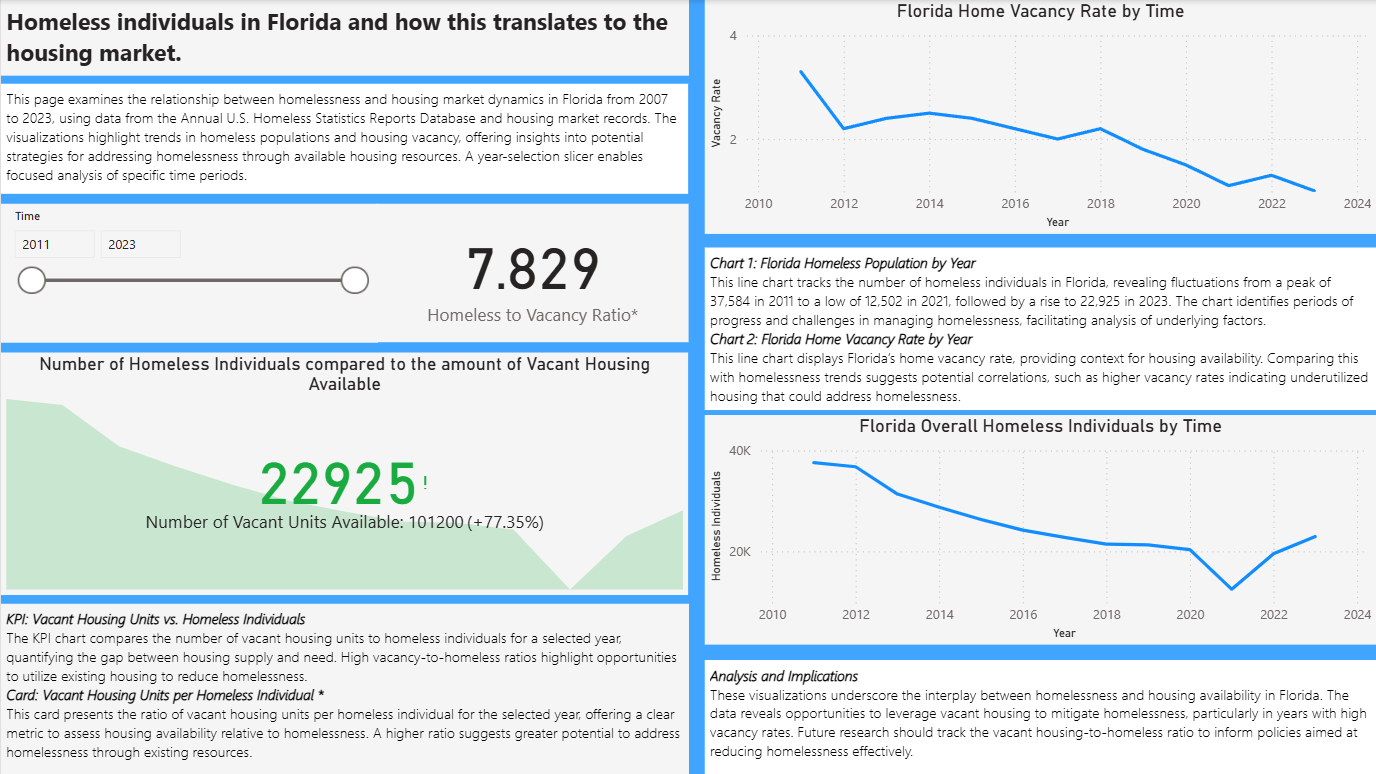

This screenshot's page, from the dashboard's own definition file:
{"tool":"powerbi","page":{"name":"Homelessness and Vacancy Rates","canvas":[1280,720],"ordinal":2},"visuals":[{"type":"lineChart","title":"Florida Home Vacancy Rate by Time","fields":{"Category":["Homeless & Vacancy.Time"],"Y":["Sum(Homeless & Vacancy.Florida Home Vacancy Rate)"]},"box":[655,0,625,235],"z":0},{"type":"lineChart","title":"Florida Overall Homeless Individuals by Time","fields":{"Category":["Homeless & Vacancy.Time"],"Y":["Sum(Homeless & Vacancy.Florida, Overall Homeless Individuals, Overall Homeless Individuals)"]},"box":[655,235,625,235],"z":1000},{"type":"kpi","title":"Number of Homeless Individuals compared to the amount of Vacant Housing Available","fields":{"Indicator":["Sum(Homeless & Vacancy.Florida, Overall Homeless Individuals, Overall Homeless Individuals)"],"TrendLine":["Homeless & Vacancy.Time"],"Goal":["Sum(Homeless & Vacancy.Number of Vacant Units)"]},"box":[655,470,625,250],"z":2000},{"type":"slicer","fields":{"Values":["Homeless & Vacancy.Time"]},"box":[0,581.2,350,138.8],"z":3000},{"type":"card","fields":{"Values":["Avg(Homeless & Vacancy.xRate)"]},"box":[350,581.2,305,138.8],"z":4000},{"type":"textbox","box":[0,135,655,446.2],"z":5000},{"type":"textbox","box":[0,0,607.5,78.8],"z":6000}]}

Visuals, with their boxes in screenshot pixels (x1, y1, x2, y2), scaled from the page's 1280x720 canvas onto the 1376x774 screenshot:
"Florida Home Vacancy Rate by Time" lineChart: Rect(704, 0, 1375, 253)
"Florida Overall Homeless Individuals by Time" lineChart: Rect(704, 253, 1375, 505)
"Number of Homeless Individuals compared to the amount of Vacant Housing Available" kpi: Rect(704, 505, 1375, 773)
slicer - Homeless & Vacancy.Time: Rect(0, 625, 376, 773)
card - Avg(Homeless & Vacancy.xRate): Rect(376, 625, 704, 773)
textbox: Rect(0, 145, 704, 625)
textbox: Rect(0, 0, 653, 85)
